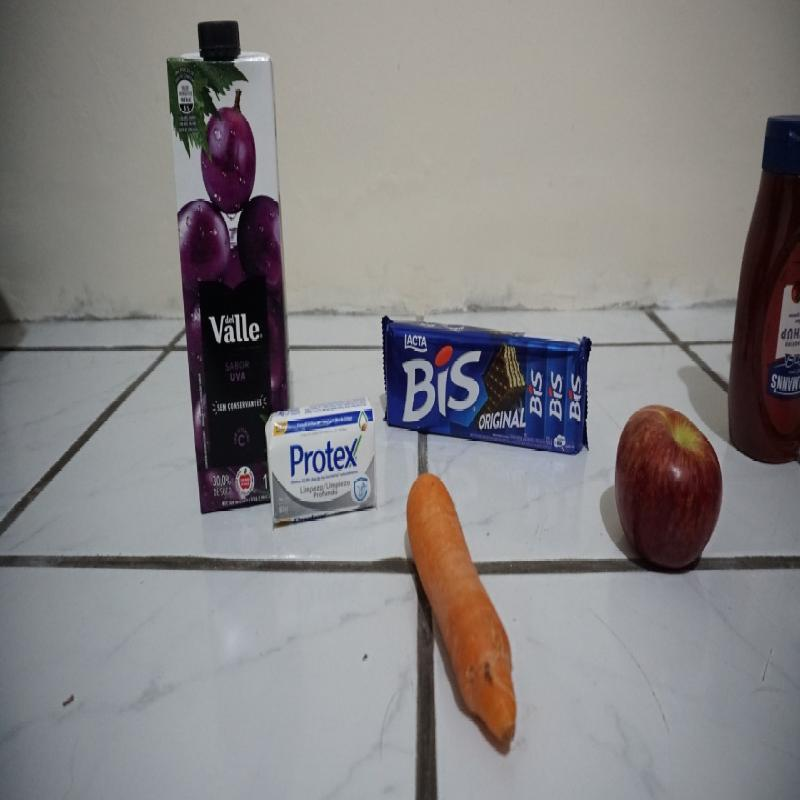Apple: (612, 404, 721, 574)
Carrot: (409, 471, 516, 748)
Ketchup: (731, 108, 800, 472)
Soap: (266, 403, 376, 521)
